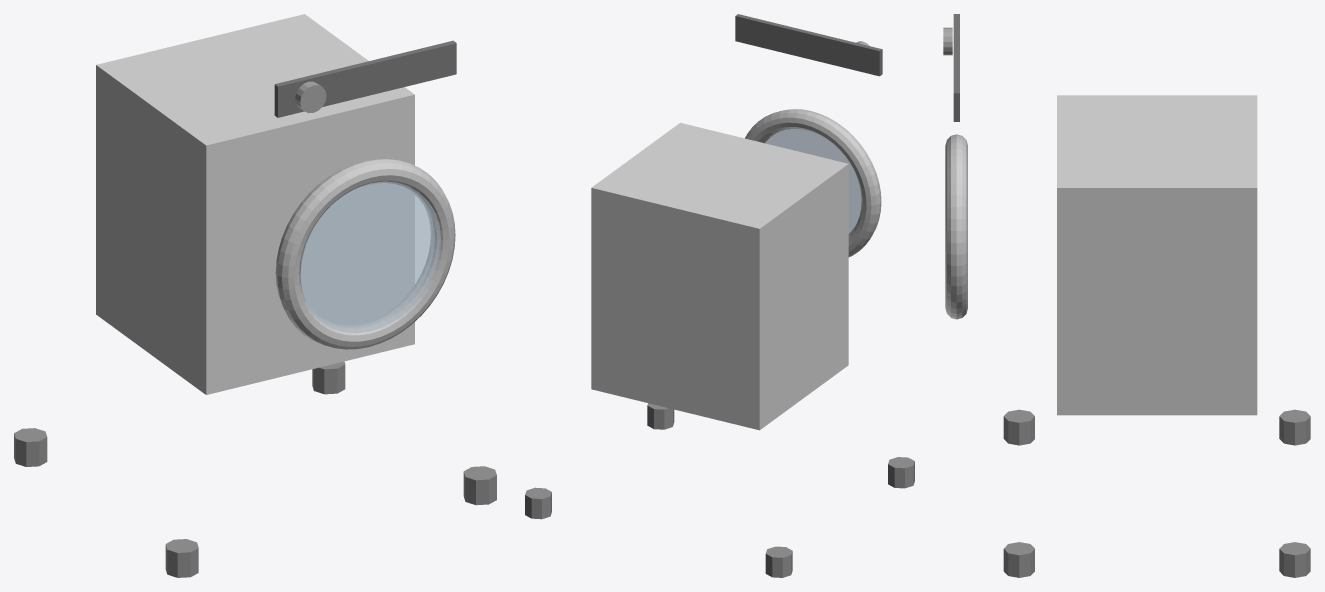
File: washing-machine.glb
3 views of the same model, side by side, from view 1: azimuth 30°, elevation 25°; view 2: azimuth 150°, elevation 25°; view 3: azimuth 270°, elevation 25° (orthographic). The views are drawn at different scales.
Parts seen in each view (by area): view 1: WashingMachine_Body, WashingMachine_DoorGlass, WashingMachine_DoorRing, WashingMachine_Panel, WashingMachine_Foot.002, WashingMachine_Foot.001, WashingMachine_Foot, WashingMachine_Foot.003, WashingMachine_Knob; view 2: WashingMachine_Body, WashingMachine_DoorRing, WashingMachine_Panel, WashingMachine_DoorGlass, WashingMachine_Foot.002, WashingMachine_Foot, WashingMachine_Foot.003, WashingMachine_Foot.001; view 3: WashingMachine_Body, WashingMachine_DoorRing, WashingMachine_Foot.003, WashingMachine_Foot, WashingMachine_Foot.001, WashingMachine_Foot.002, WashingMachine_Panel.
Boxes of the visible parts, left/top/right/bottom form: WashingMachine_Body: left=96, top=14, right=414, bottom=394; WashingMachine_DoorGlass: left=299, top=181, right=441, bottom=333; WashingMachine_DoorRing: left=275, top=158, right=455, bottom=349; WashingMachine_Panel: left=274, top=40, right=456, bottom=117; WashingMachine_Foot.002: left=14, top=428, right=47, bottom=466; WashingMachine_Foot.001: left=463, top=466, right=496, bottom=505; WashingMachine_Foot: left=165, top=539, right=198, bottom=577; WashingMachine_Foot.003: left=312, top=361, right=345, bottom=394; WashingMachine_Knob: left=295, top=81, right=326, bottom=112; WashingMachine_Body: left=591, top=122, right=848, bottom=430; WashingMachine_DoorRing: left=745, top=109, right=881, bottom=257; WashingMachine_Panel: left=735, top=14, right=882, bottom=76; WashingMachine_DoorGlass: left=765, top=129, right=861, bottom=233; WashingMachine_Foot.002: left=765, top=546, right=792, bottom=577; WashingMachine_Foot: left=888, top=457, right=914, bottom=488; WashingMachine_Foot.003: left=525, top=487, right=551, bottom=519; WashingMachine_Foot.001: left=647, top=403, right=674, bottom=429; WashingMachine_Body: left=1057, top=95, right=1257, bottom=415; WashingMachine_DoorRing: left=945, top=134, right=967, bottom=319; WashingMachine_Foot.003: left=1279, top=542, right=1310, bottom=577; WashingMachine_Foot: left=1003, top=409, right=1034, bottom=445; WashingMachine_Foot.001: left=1003, top=542, right=1034, bottom=577; WashingMachine_Foot.002: left=1279, top=409, right=1310, bottom=445; WashingMachine_Panel: left=953, top=14, right=959, bottom=121.
Bounding box in the file's own units: 0.55 × 0.795 × 0.5865.
